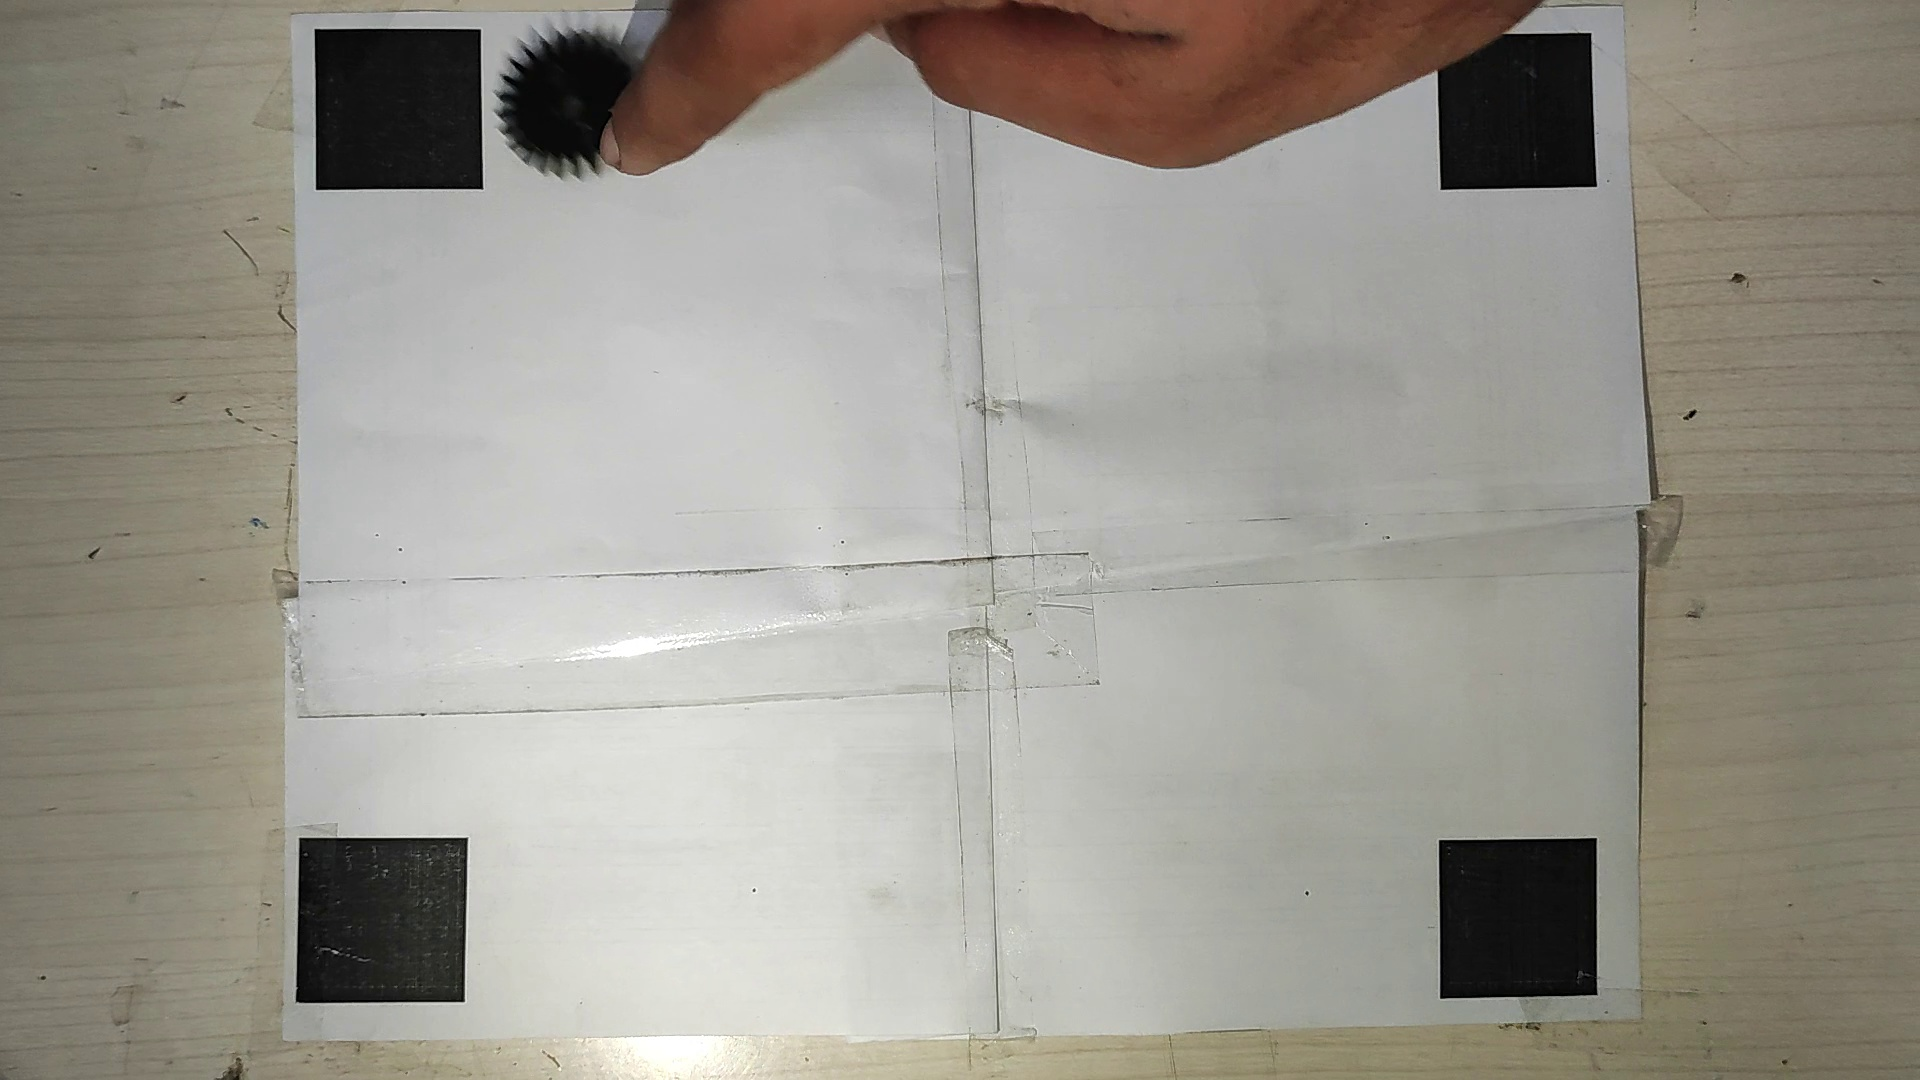Gear: (490, 33, 646, 180)
